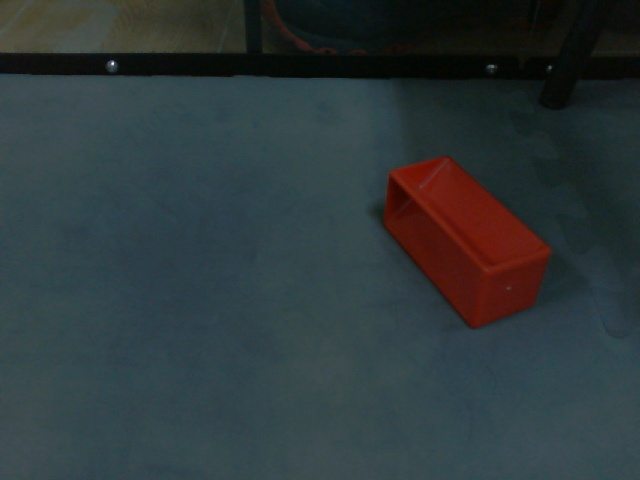RedSample: (379, 152, 554, 333)
